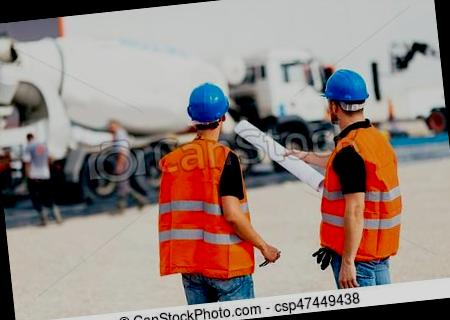helmet: (316, 64, 374, 116), (178, 79, 233, 130)
person: (143, 77, 264, 304), (300, 64, 408, 290)
